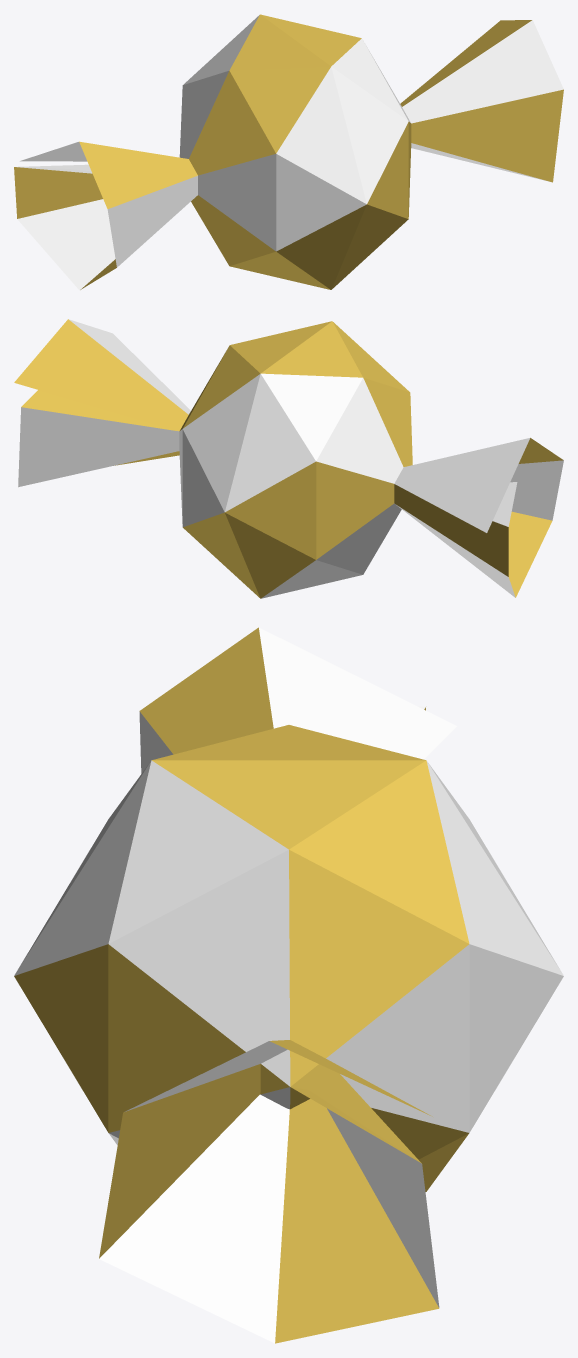
File: candy_yellow.fbx
3 renders of one model, top to bottom at view 1: azimuth 30°, elevation 25°; view 2: azimuth 150°, elevation 25°; view 3: azimuth 270°, elevation 25°, orthographic. The views are drawn at different scales.
Parts seen in each view (by area): view 1: candy_yellow; view 2: candy_yellow; view 3: candy_yellow.
Boxes of the visible parts, x1,y1,x2,y2 form: candy_yellow: (14,14,563,290); candy_yellow: (14,319,563,598); candy_yellow: (14,627,563,1343).
Size of the model in its own units: 6.54 by 2.86 by 3.3.
